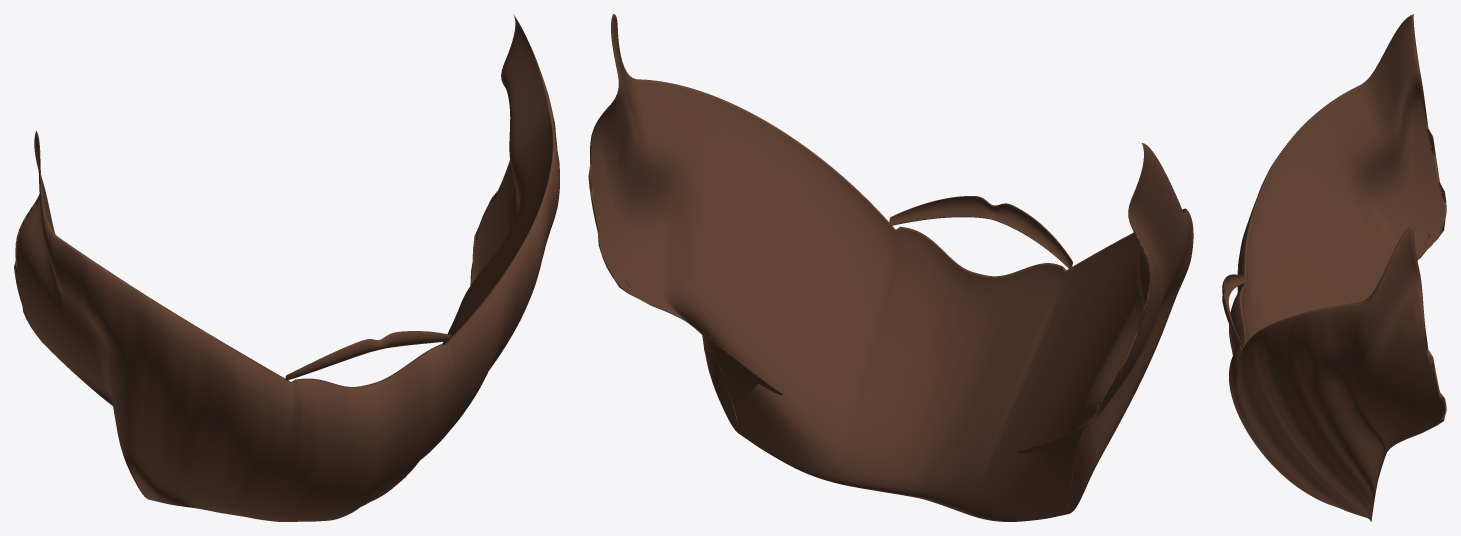
Rendered from Masculine-groom-long.glb.
3 renders of one model, left to right at view 1: azimuth 30°, elevation 25°; view 2: azimuth 150°, elevation 25°; view 3: azimuth 270°, elevation 25°, orthographic. The views are drawn at different scales.
Parts seen in each view (by area): view 1: Groom / rounded long188, Groom / shared mustache185; view 2: Groom / rounded long188, Groom / shared mustache185; view 3: Groom / rounded long188, Groom / shared mustache185.
Boxes of the visible parts, <box> form: Groom / rounded long188: <box>14,14,559,521</box>; Groom / shared mustache185: <box>285,331,451,380</box>; Groom / rounded long188: <box>588,14,1193,521</box>; Groom / shared mustache185: <box>888,196,1072,270</box>; Groom / rounded long188: <box>1229,14,1446,521</box>; Groom / shared mustache185: <box>1222,274,1247,348</box>.
Bounding box in the file's own units: 0.9241 × 0.7149 × 0.393.
